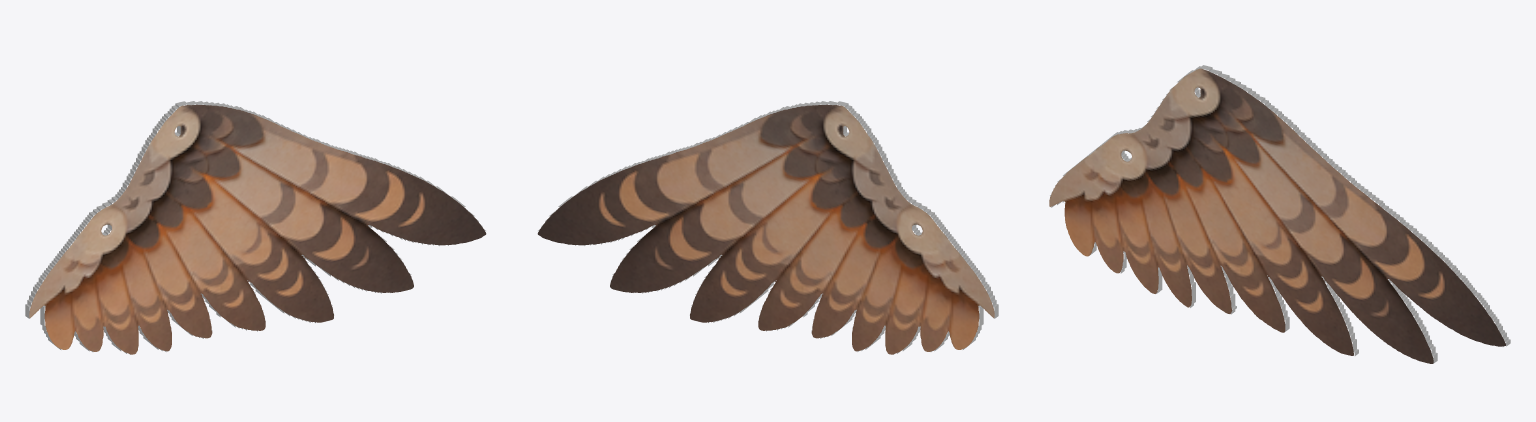
File: FanRight.glb
3 views of the same model, side by side, from view 1: azimuth 30°, elevation 25°; view 2: azimuth 150°, elevation 25°; view 3: azimuth 330°, elevation 25° (orthographic).
Visible parts, largest first — view 1: PaperVolume; view 2: PaperVolume; view 3: PaperVolume.
Boxes of the visible parts, bbox=[...] form: PaperVolume: bbox=[25, 101, 486, 354]; PaperVolume: bbox=[537, 101, 998, 354]; PaperVolume: bbox=[1049, 65, 1510, 363].
Size of the model in its own units: 5.33 by 2.91 by 0.08.
Materials: 3 (2 with a texture image).
